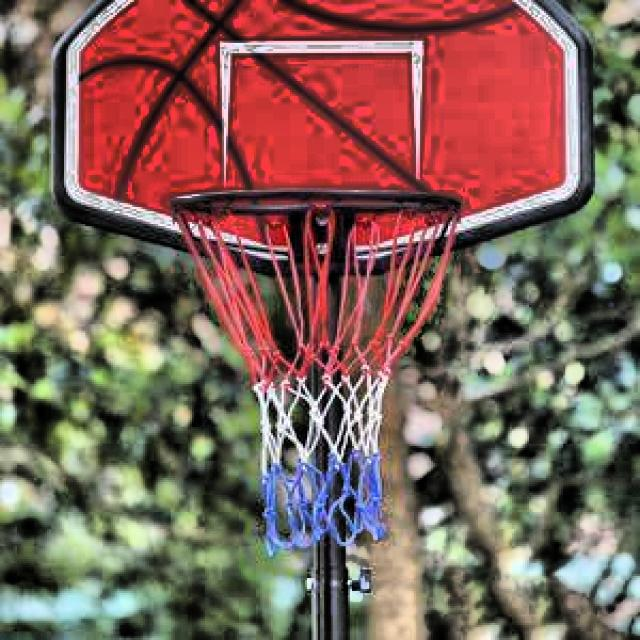rim: (168, 191, 468, 554)
